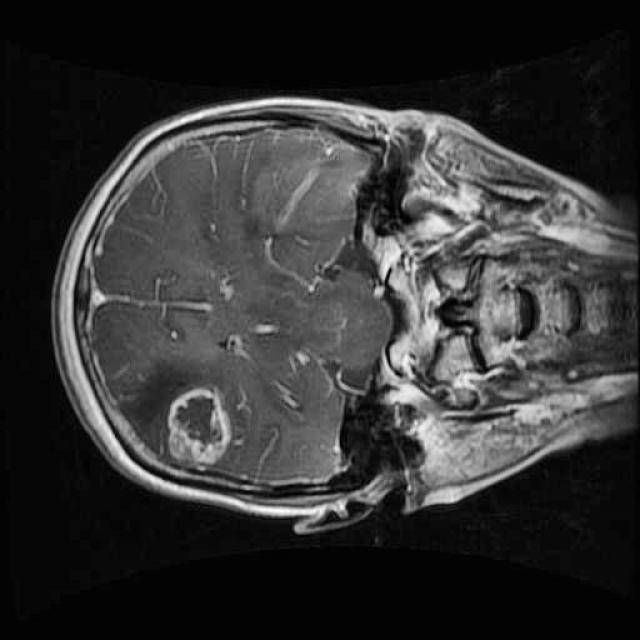Tumor: (155, 376, 243, 479)
